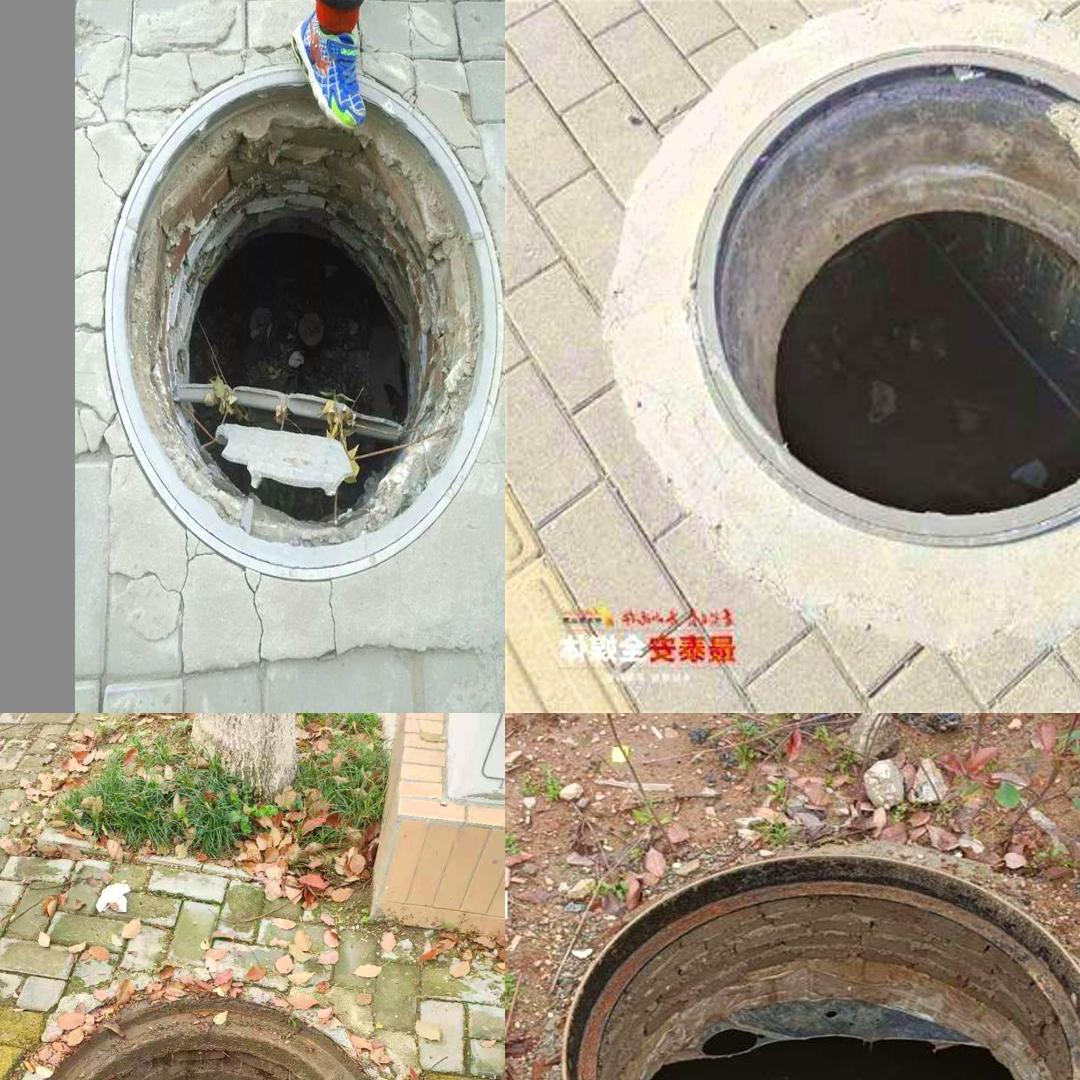lose: (606, 15, 1080, 606), (97, 61, 498, 574), (550, 837, 1080, 1080), (0, 982, 421, 1080)
